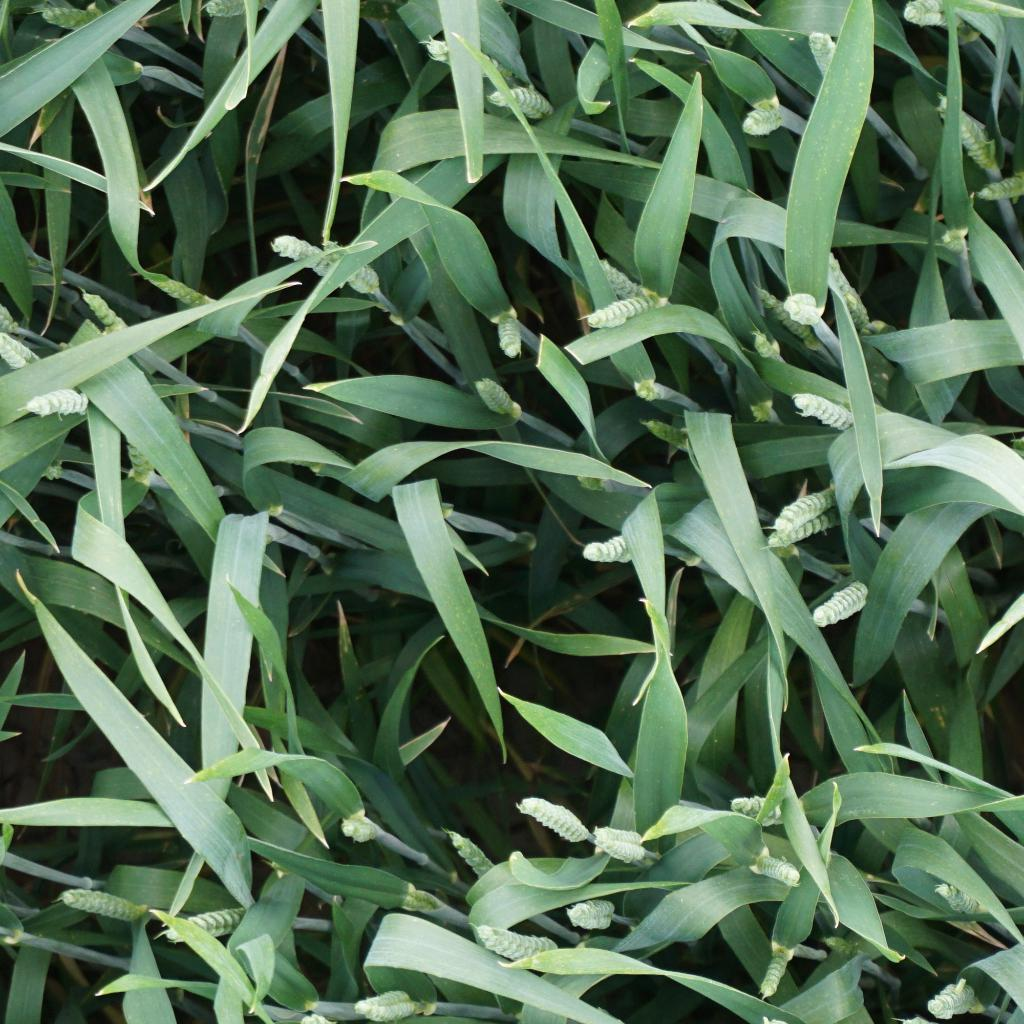0-0: (809, 230, 878, 344), (302, 233, 384, 298), (415, 32, 517, 84), (930, 96, 995, 172), (155, 902, 263, 947), (766, 481, 852, 537), (263, 235, 353, 285), (759, 501, 848, 550), (515, 794, 597, 847), (470, 922, 566, 966), (588, 256, 658, 315), (747, 290, 819, 344), (484, 82, 566, 126), (805, 28, 858, 95), (54, 888, 148, 924), (443, 824, 499, 884), (24, 385, 100, 428), (588, 823, 669, 863), (135, 275, 214, 315), (810, 577, 871, 628), (792, 391, 865, 433), (583, 288, 654, 331), (717, 792, 802, 827), (77, 287, 129, 338), (742, 93, 790, 148), (925, 980, 985, 1024), (747, 847, 809, 889), (756, 939, 798, 1001), (351, 987, 422, 1023), (639, 417, 699, 459), (555, 895, 621, 933), (888, 0, 984, 26), (120, 430, 161, 490), (582, 531, 651, 566), (931, 882, 988, 924), (28, 2, 110, 31), (469, 378, 523, 419), (485, 306, 526, 359), (392, 880, 449, 918), (0, 331, 43, 377), (975, 171, 1024, 207), (334, 813, 379, 852), (779, 291, 821, 332), (748, 335, 790, 367), (933, 221, 968, 259), (192, 0, 263, 17)
